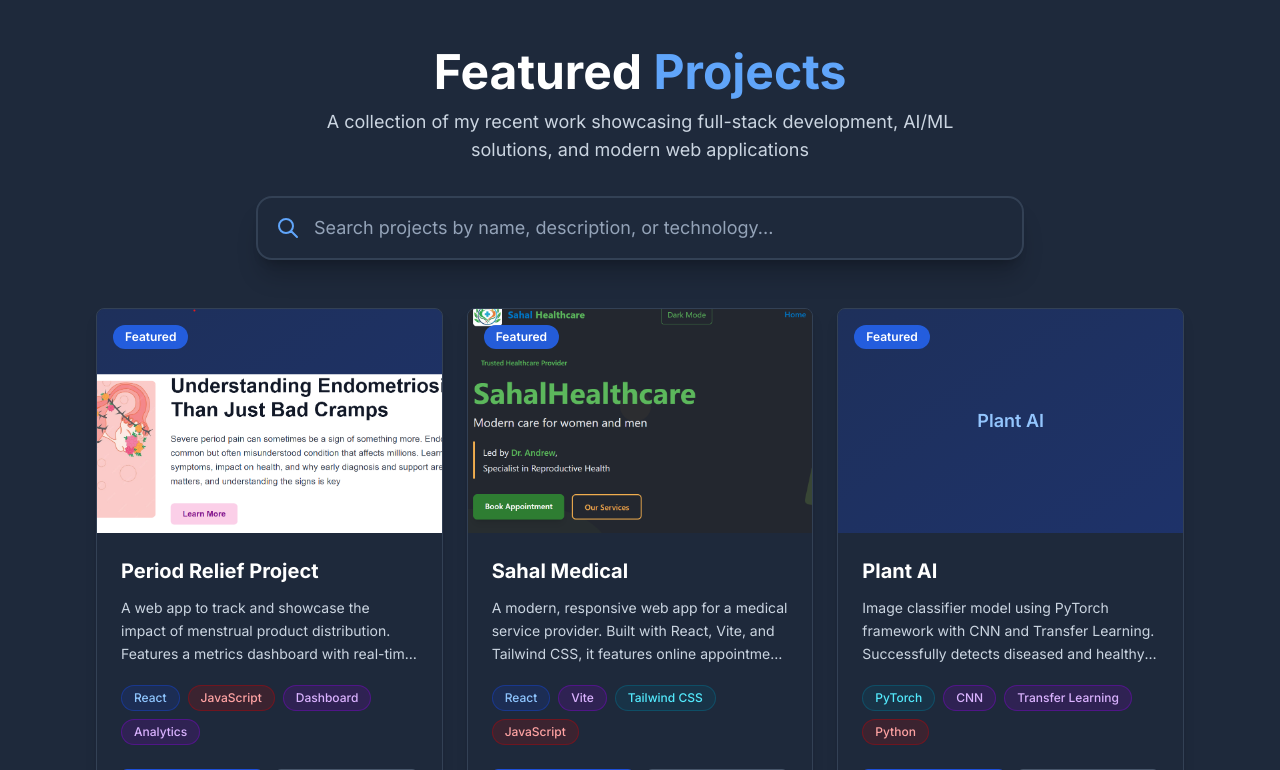
Test case: Projects - Filtering and Search › shows no results message when search returns no matches
Type "nonexistentproject123" into the field with placeholder "Search projects by name, description, or technology...".
click(640, 228); type("nonexistentproject123")  # box [256,196,1024,260]
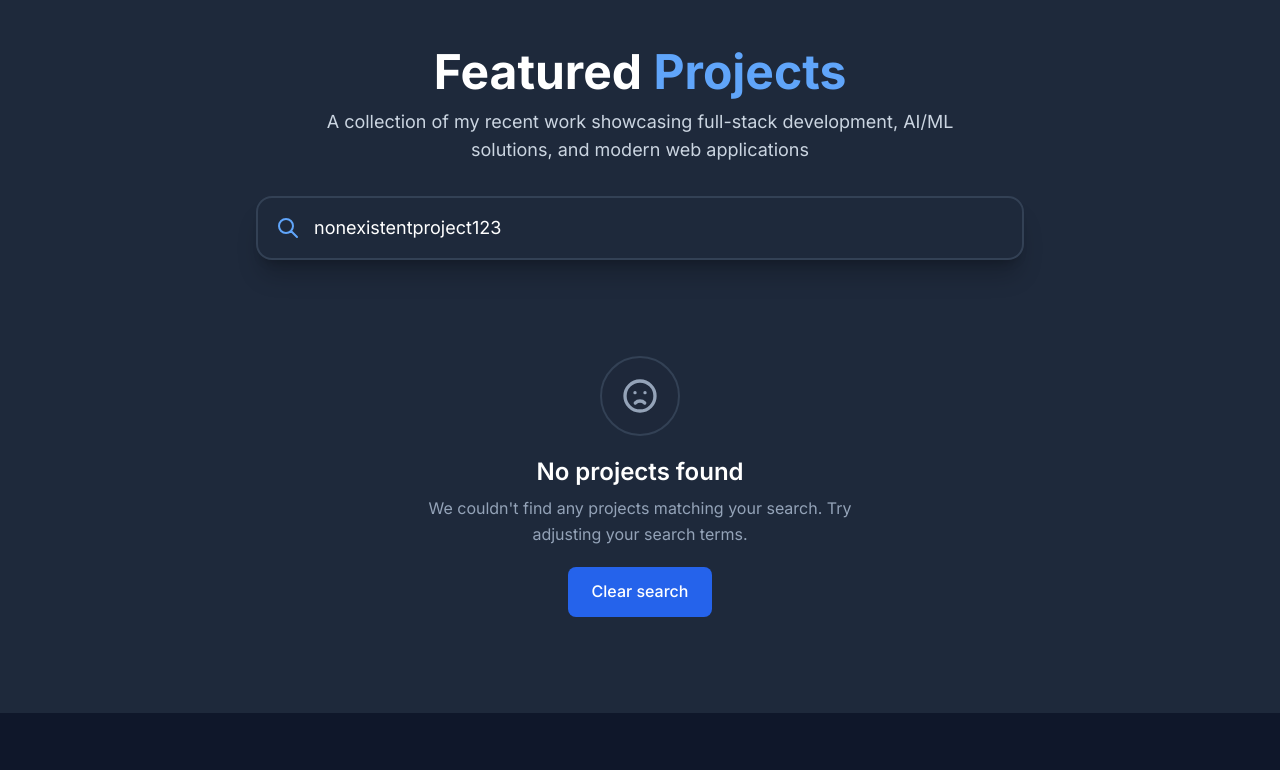
Now the heading "No projects found" is shown, box [536,457,744,486]
Now the text "Try adjusting your search" is shown, box [428,498,852,544]
